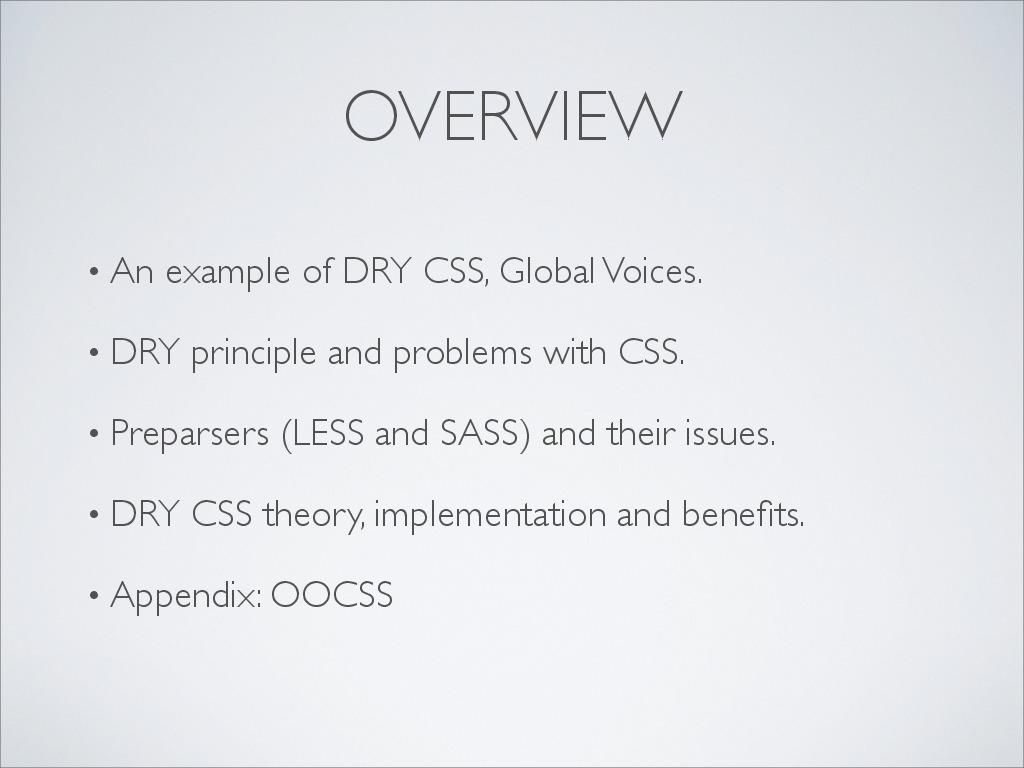paragraph: (63, 214, 884, 666)
title: (329, 69, 739, 162)
